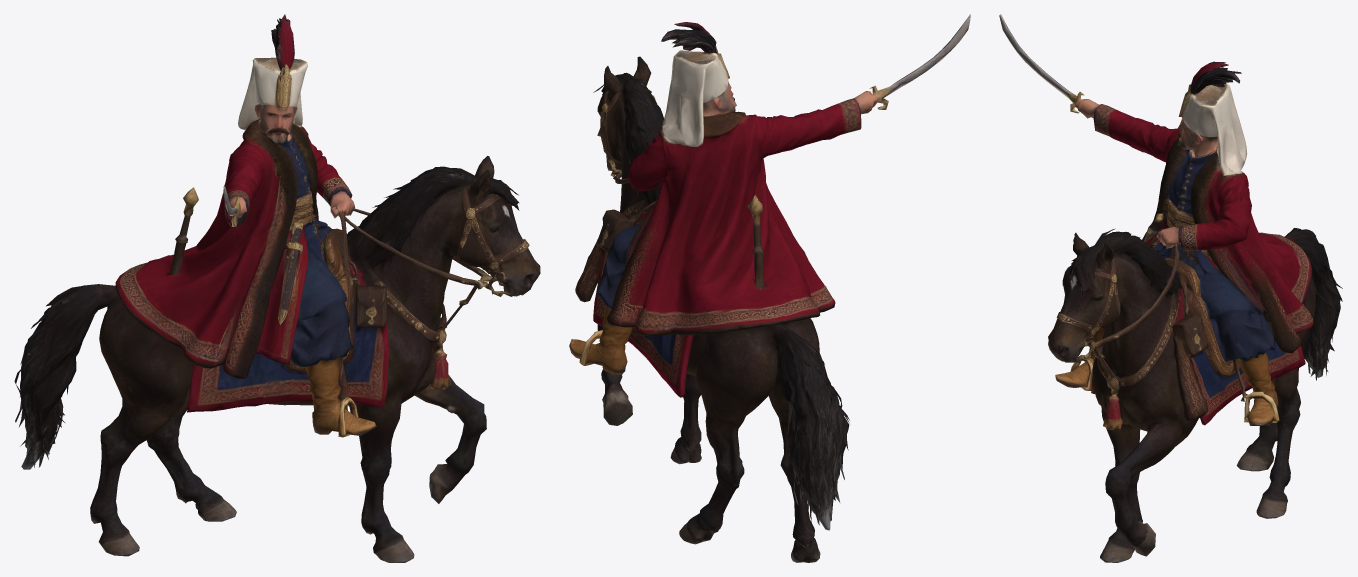
File: yeniceri-agasi-atli-komutan-1600-1620-tripo-v1.glb
The picture shows the model from 3 angles, left to right: view 1: azimuth 30°, elevation 25°; view 2: azimuth 150°, elevation 25°; view 3: azimuth 270°, elevation 25°; orthographic projection. The views are drawn at different scales.
Visible parts, largest first — view 1: tripo_node_beb81c1e-5c7e-4f8e-a606-eb11829dcd3f; view 2: tripo_node_beb81c1e-5c7e-4f8e-a606-eb11829dcd3f; view 3: tripo_node_beb81c1e-5c7e-4f8e-a606-eb11829dcd3f.
Part boxes in pixels (bbox=[...]): tripo_node_beb81c1e-5c7e-4f8e-a606-eb11829dcd3f: bbox=[14, 14, 540, 562]; tripo_node_beb81c1e-5c7e-4f8e-a606-eb11829dcd3f: bbox=[569, 14, 970, 562]; tripo_node_beb81c1e-5c7e-4f8e-a606-eb11829dcd3f: bbox=[999, 14, 1342, 562].
Bounding box in the file's own units: 0.7955 × 1 × 0.6638.
Materials: 1 (1 with a texture image).
